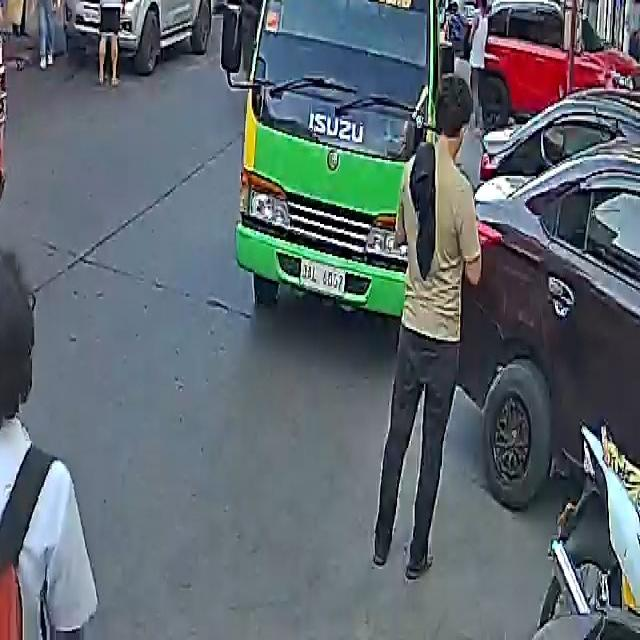car: (455, 82, 640, 537), (464, 0, 640, 124), (75, 0, 217, 71), (0, 0, 10, 619)
